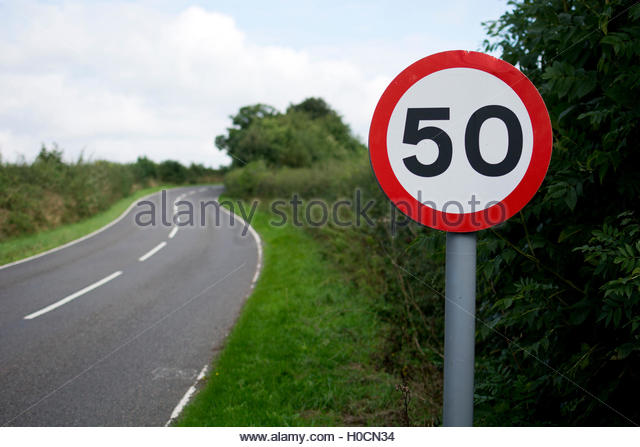Speed_limit_50km: (367, 50, 554, 229)
